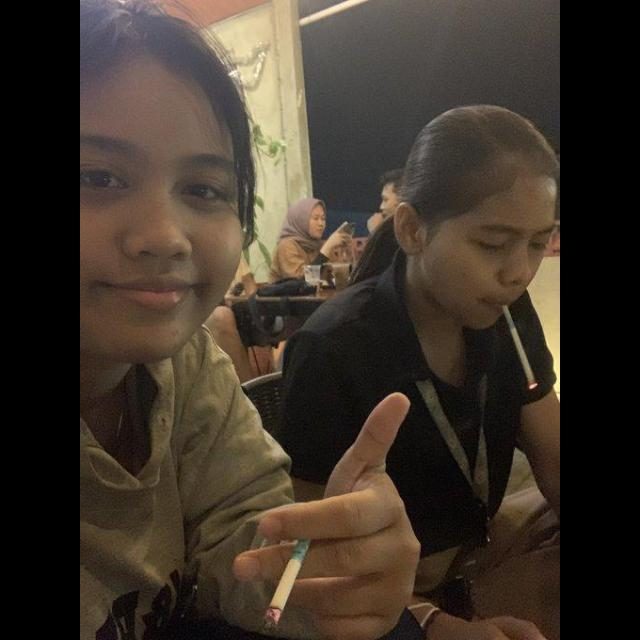rokok: (256, 529, 312, 635), (502, 304, 538, 391)
